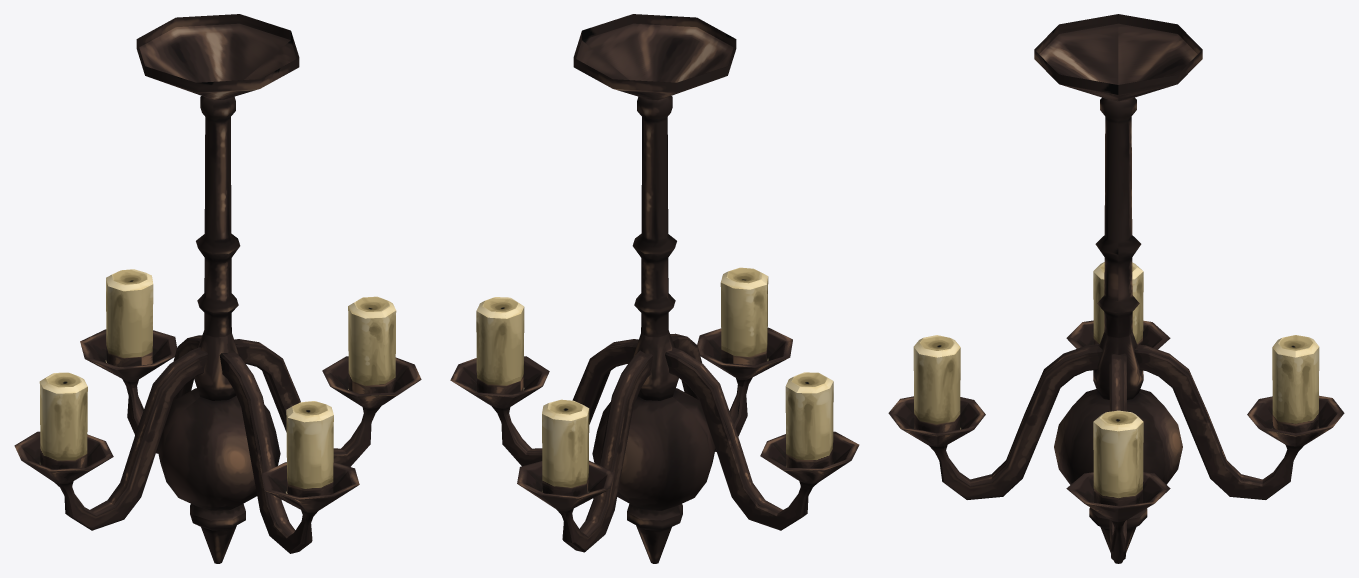
The model's file is Chandelier_01.fbx.
3 views of the same model, side by side, from view 1: azimuth 30°, elevation 25°; view 2: azimuth 150°, elevation 25°; view 3: azimuth 270°, elevation 25° (orthographic).
Visible parts, largest first — view 1: Kandelaar_Main1; view 2: Kandelaar_Main1; view 3: Kandelaar_Main1.
Boxes of the visible parts, x1,y1,x2,y2 form: Kandelaar_Main1: [14, 14, 421, 563]; Kandelaar_Main1: [450, 14, 859, 563]; Kandelaar_Main1: [888, 14, 1344, 563].
Bounding box in the file's own units: 3.81 × 4.76 × 3.83.
